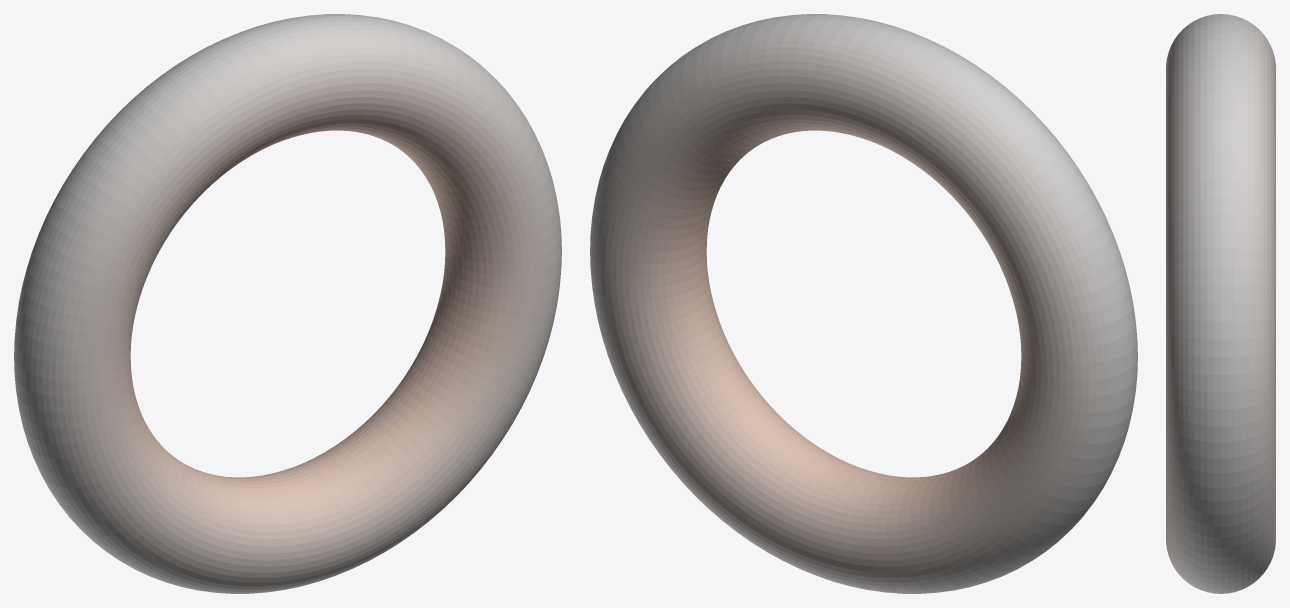
3 views of the same model, side by side, from view 1: azimuth 30°, elevation 25°; view 2: azimuth 150°, elevation 25°; view 3: azimuth 270°, elevation 25° (orthographic). The views are drawn at different scales.
Parts seen in each view (by area): view 1: world; view 2: world; view 3: world.
Part boxes in pixels (x1=…): world: x1=14, y1=14, x2=561, y2=593; world: x1=590, y1=14, x2=1137, y2=593; world: x1=1166, y1=14, x2=1275, y2=593.
Size of the model in its own units: 28.8 by 28.8 by 5.46.
